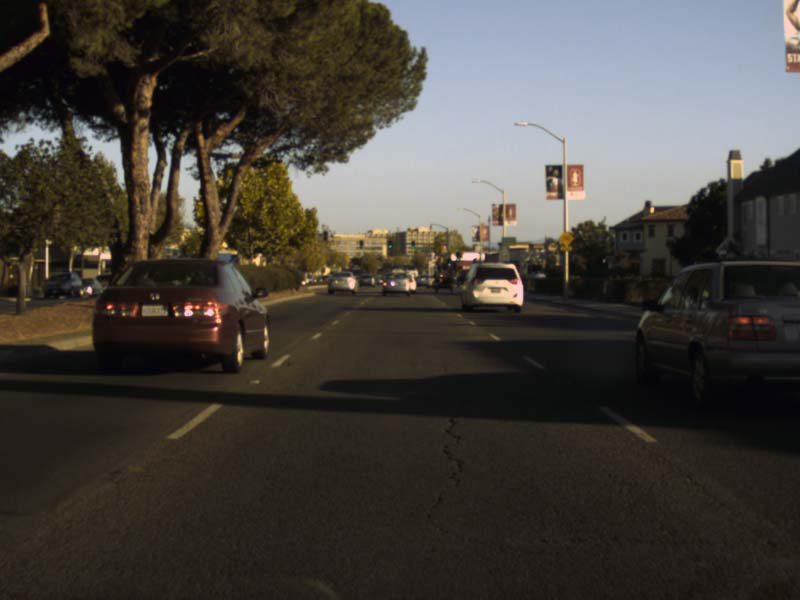Green: (455, 252, 459, 261), (447, 258, 451, 267), (388, 240, 391, 249), (411, 241, 414, 248), (360, 241, 362, 247)
